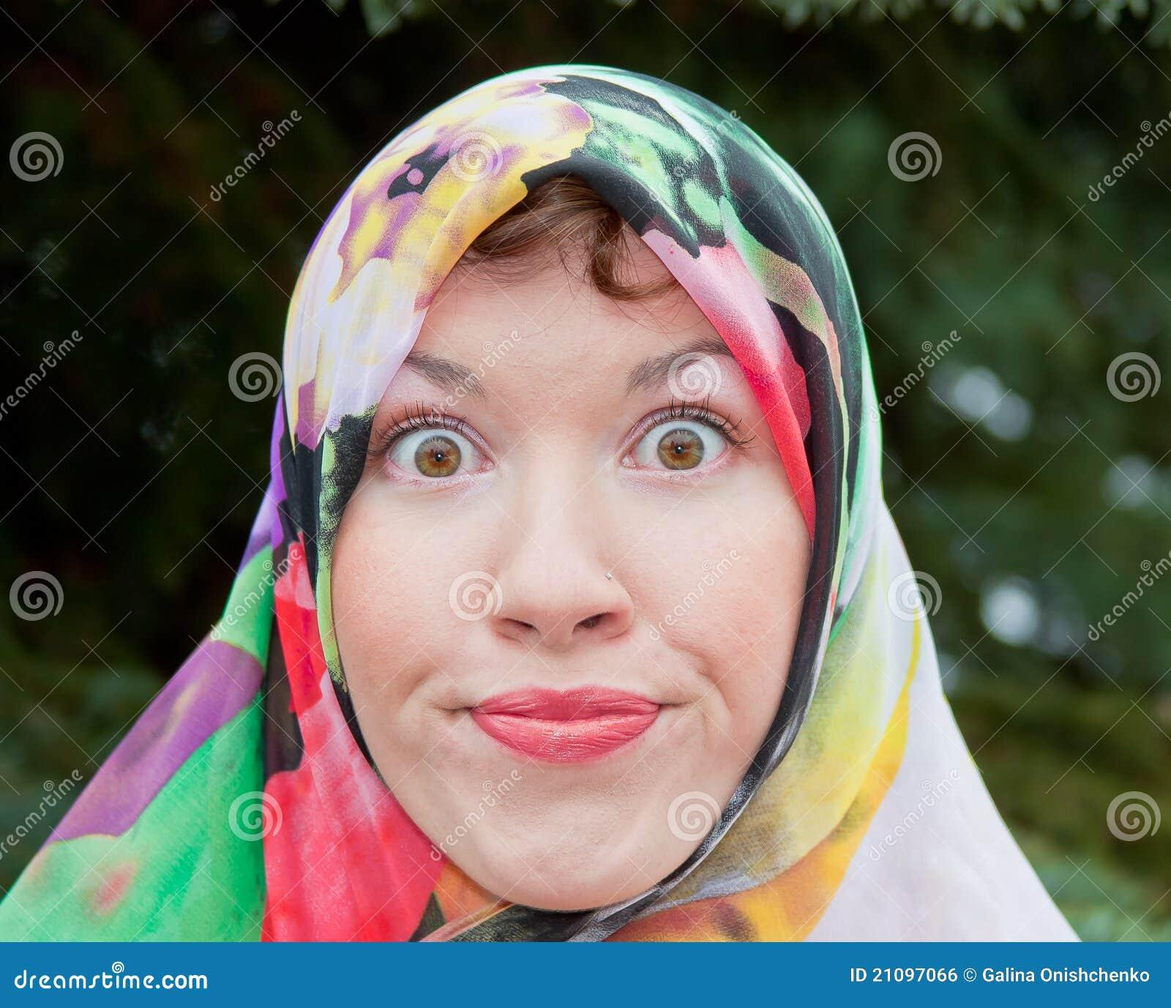scarf-kerchief: (207, 34, 1027, 912), (204, 195, 941, 933)
